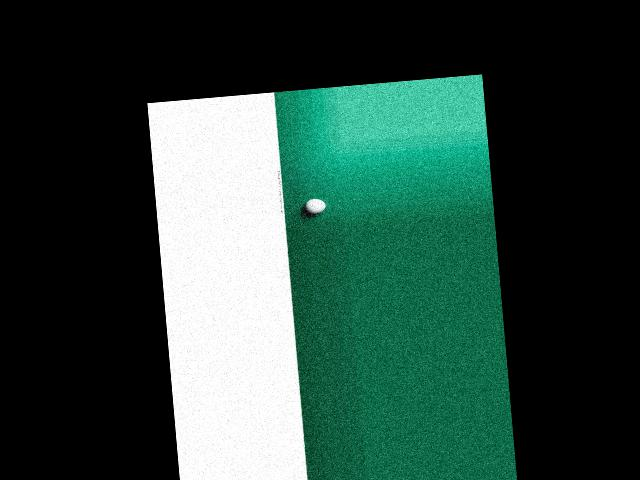egg: (304, 197, 325, 213)
